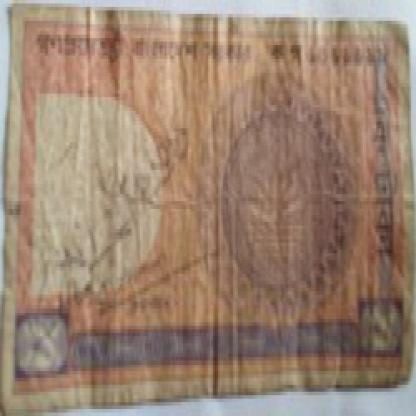One Taka: (18, 312, 67, 374), (363, 298, 401, 357)
